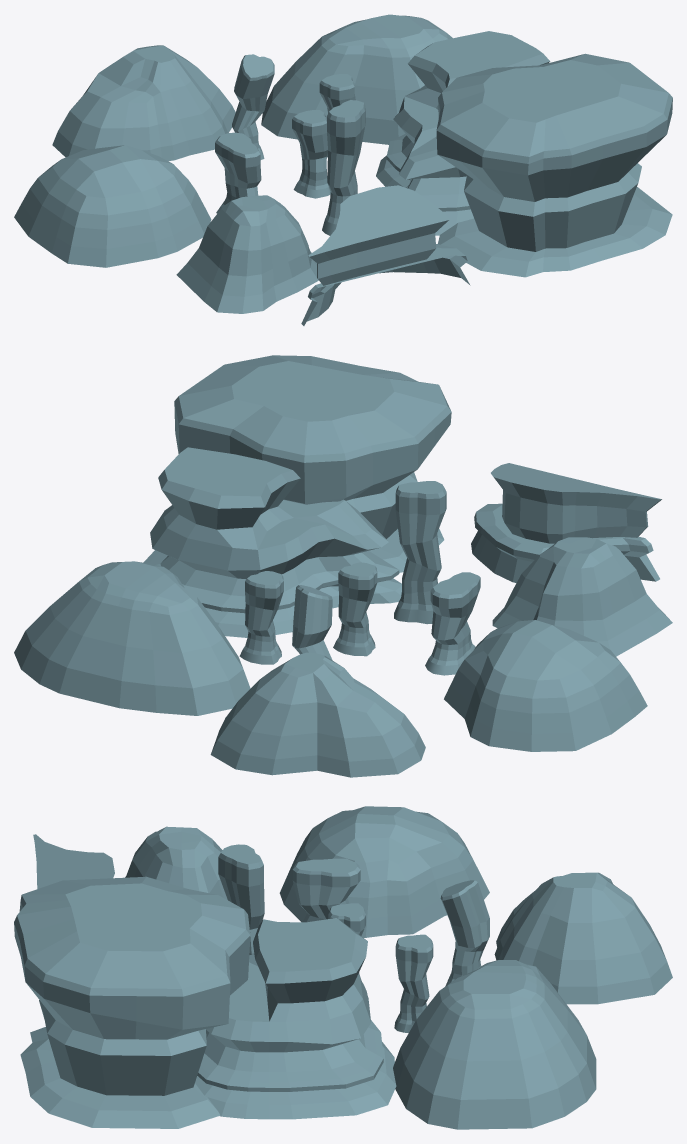
File: Test_Terrain.fbx
The picture shows the model from 3 angles, top to bottom: view 1: azimuth 30°, elevation 25°; view 2: azimuth 150°, elevation 25°; view 3: azimuth 270°, elevation 25°; orthographic projection. The views are drawn at different scales.
Visible parts, largest first — view 1: Test_Run; view 2: Test_Run; view 3: Test_Run.
Part boxes in pixels (x1,y1,x2,y2): Test_Run: [14, 14, 672, 325]; Test_Run: [14, 355, 672, 777]; Test_Run: [14, 806, 672, 1129].
Size of the model in its own units: 26932 by 7044 by 27025.
